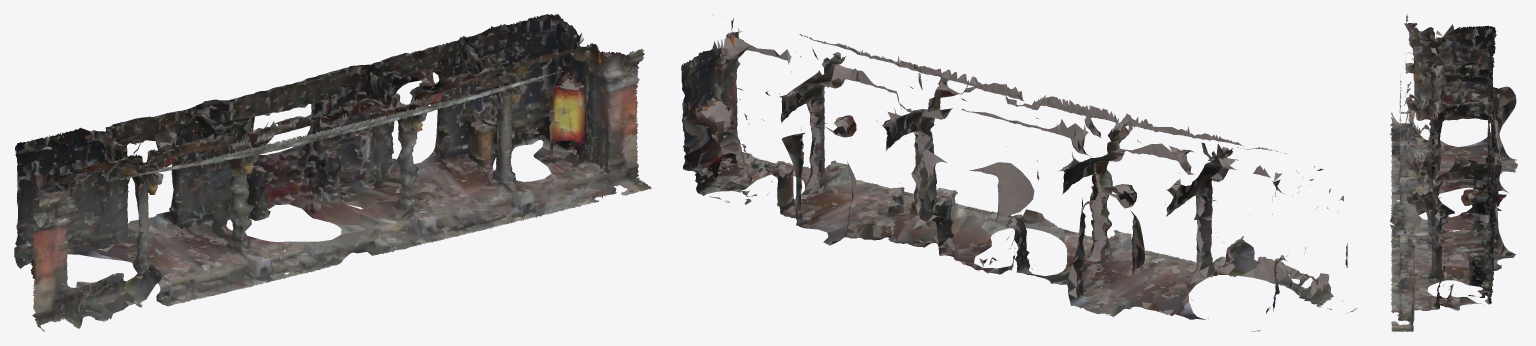
The model's file is sanchuan-facade-m.glb.
3 views of the same model, side by side, from view 1: azimuth 30°, elevation 25°; view 2: azimuth 150°, elevation 25°; view 3: azimuth 270°, elevation 25° (orthographic). The views are drawn at different scales.
Visible parts, largest first — view 1: 三川殿正面（攝影測量）; view 2: 三川殿正面（攝影測量）; view 3: 三川殿正面（攝影測量）.
Part boxes in pixels (x1,y1,x2,y2): 三川殿正面（攝影測量）: [14, 14, 651, 331]; 三川殿正面（攝影測量）: [681, 14, 1357, 331]; 三川殿正面（攝影測量）: [1389, 14, 1517, 331].
Size of the model in its own units: 21.44 by 4.72 by 5.42.
Materials: 1 (1 with a texture image).
